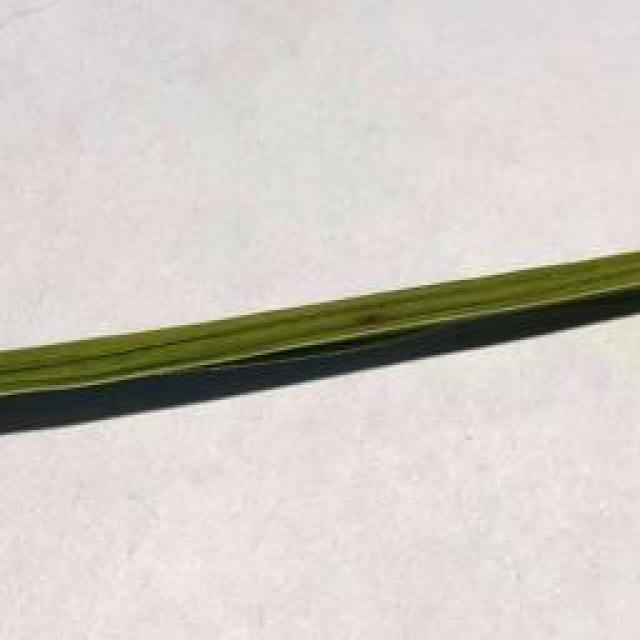Brown_Spot: (352, 310, 392, 335)
